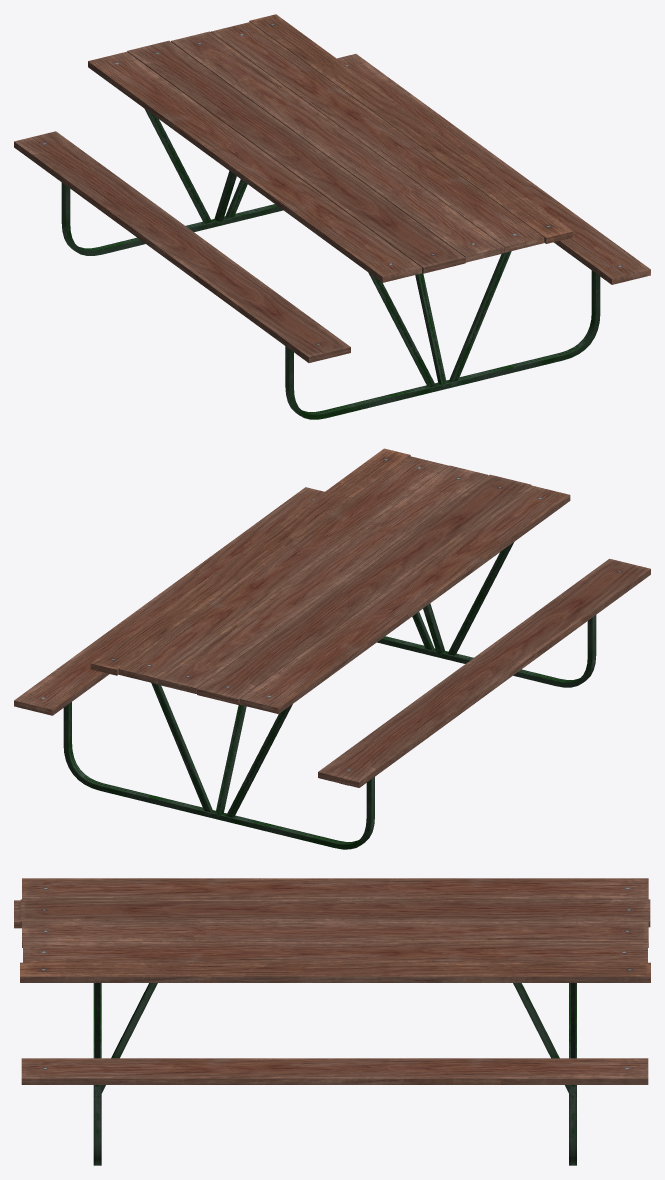
Rendered from MB_Beach_Table.fbx.
3 views of the same model, one above another, from view 1: azimuth 30°, elevation 25°; view 2: azimuth 150°, elevation 25°; view 3: azimuth 270°, elevation 25° (orthographic). The views are drawn at different scales.
Visible parts, largest first — view 1: MB_Beach_Table_LOD0; view 2: MB_Beach_Table_LOD0; view 3: MB_Beach_Table_LOD0.
Part boxes in pixels (x1,y1,x2,y2): MB_Beach_Table_LOD0: [14, 14, 650, 419]; MB_Beach_Table_LOD0: [14, 448, 650, 849]; MB_Beach_Table_LOD0: [14, 878, 650, 1165].
Size of what is drawn, in the model's own units: 191 by 84.54 by 286.
